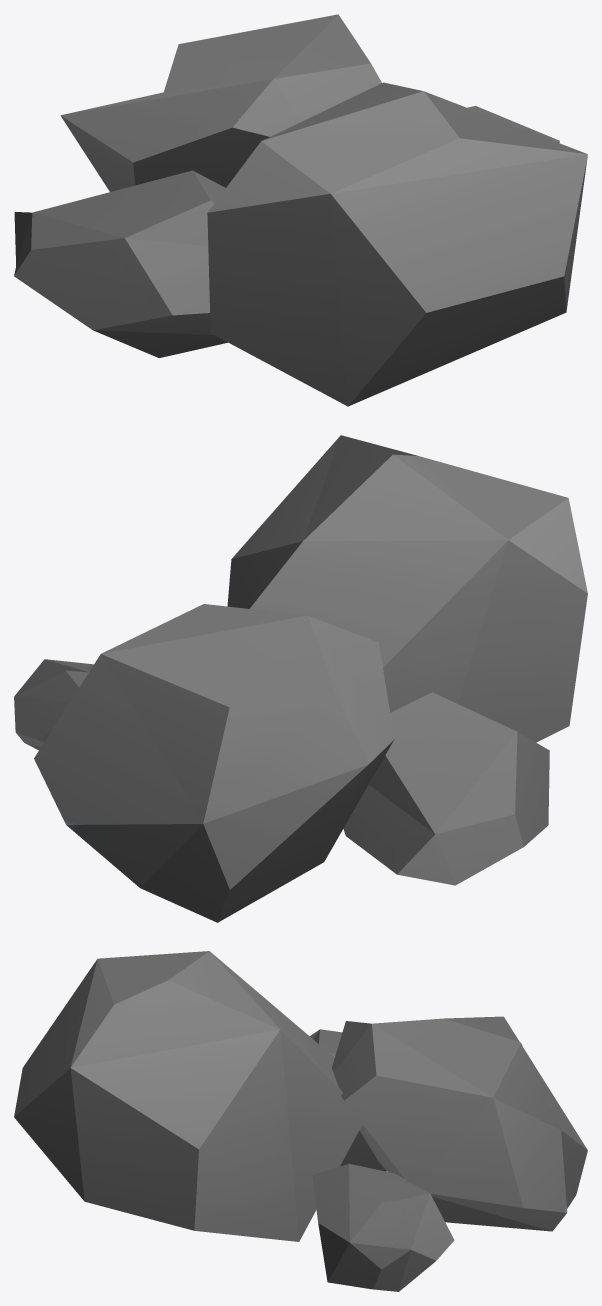
File: rocks3.glb
3 renders of one model, top to bottom at view 1: azimuth 30°, elevation 25°; view 2: azimuth 150°, elevation 25°; view 3: azimuth 270°, elevation 25°, orthographic. The views are drawn at different scales.
Parts seen in each view (by area): view 1: rocks3; view 2: rocks3; view 3: rocks3.
Boxes of the visible parts, box(x1,y1,x2,y2) form: rocks3: box(14, 14, 587, 406); rocks3: box(14, 435, 587, 922); rocks3: box(14, 951, 587, 1291).
Bounding box in the file's own units: 1.04 × 0.5572 × 1.17.
1 material, 1 textured.
